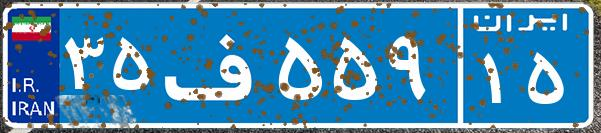1: (475, 38, 525, 113)
3: (57, 26, 110, 107)
5: (273, 28, 330, 110), (330, 28, 385, 110), (110, 28, 158, 105), (525, 38, 570, 115)
9: (385, 28, 445, 110)
ف: (158, 15, 273, 115)
